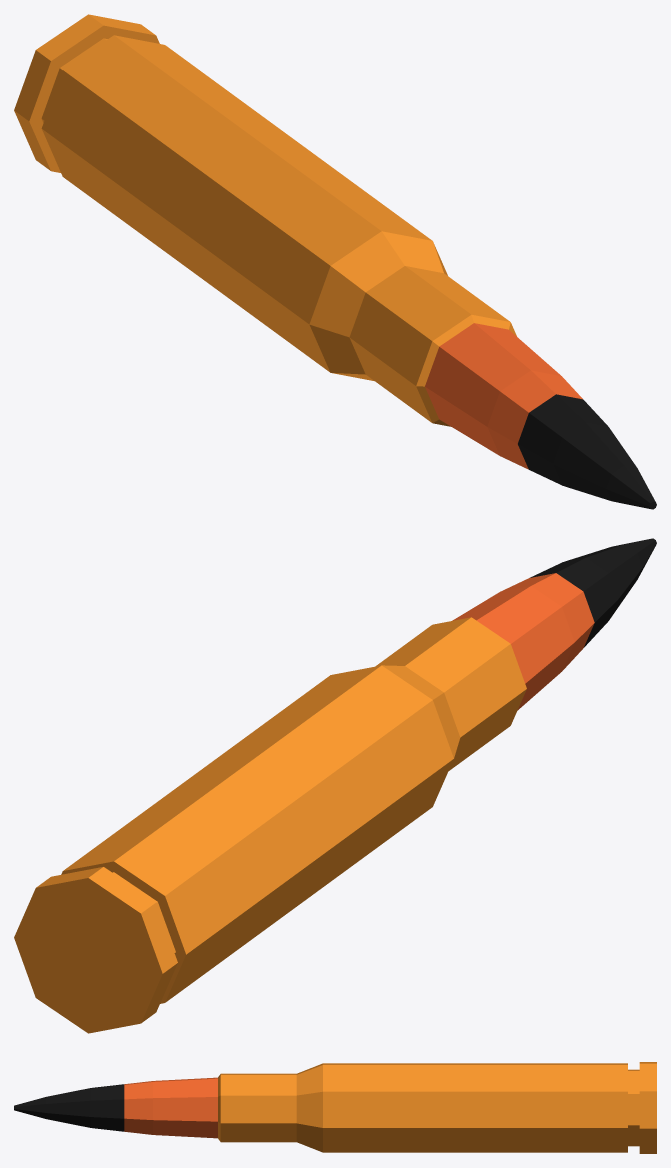
File: SniperAmmo.glb
The picture shows the model from 3 angles, top to bottom: view 1: azimuth 30°, elevation 25°; view 2: azimuth 150°, elevation 25°; view 3: azimuth 270°, elevation 25°; orthographic projection. The views are drawn at different scales.
Parts seen in each view (by area): view 1: SniperAmmo; view 2: SniperAmmo; view 3: SniperAmmo.
Boxes of the visible parts, x1,y1,x2,y2 form: SniperAmmo: (14, 14, 656, 509); SniperAmmo: (14, 538, 656, 1033); SniperAmmo: (14, 1062, 656, 1153).
Size of the model in its own units: 2.61 by 2.61 by 17.19.
Materials: 1 (1 with a texture image).
